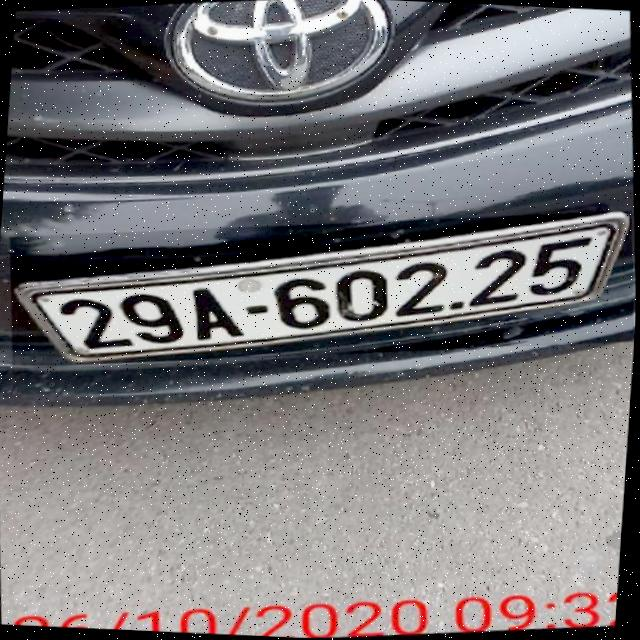car: (0, 0, 640, 419)
plate: (7, 173, 628, 394)
